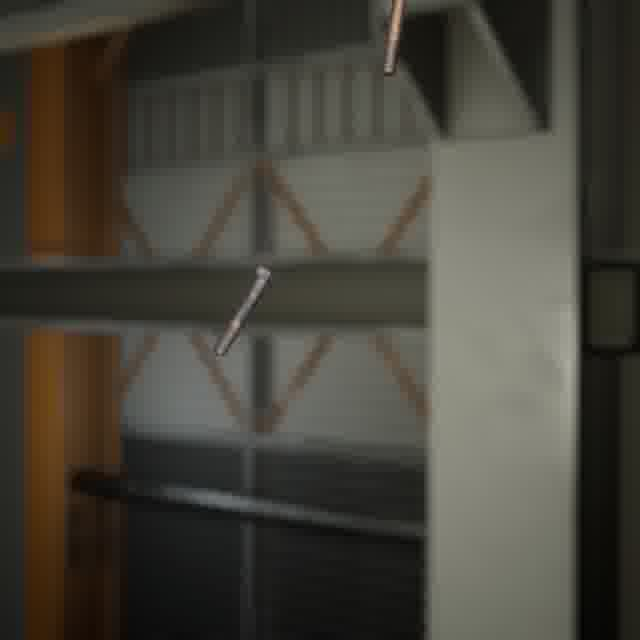bolt: (208, 260, 283, 361), (377, 0, 411, 80)
